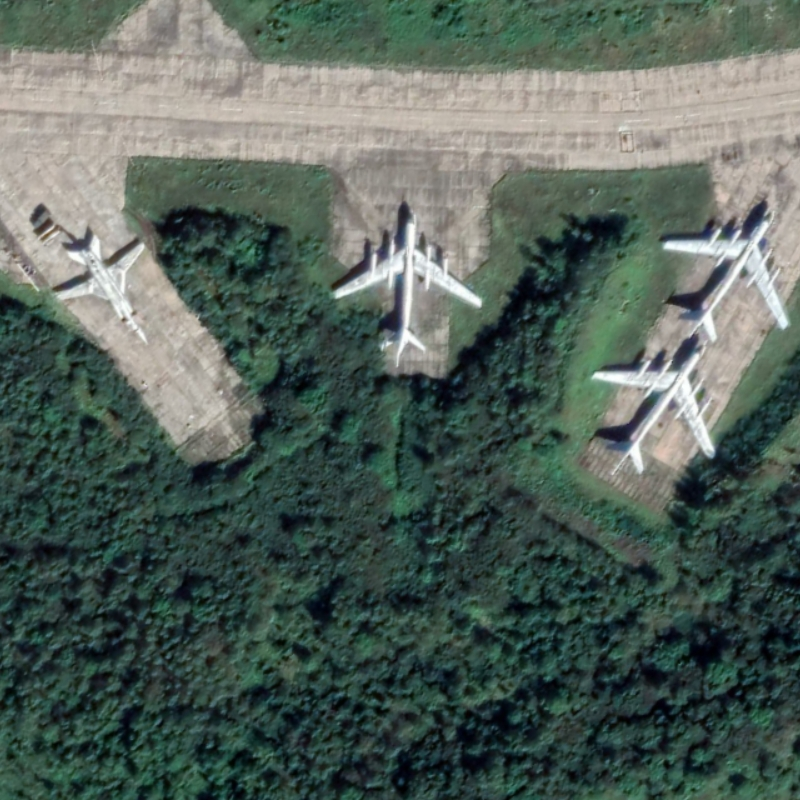A12: (50, 231, 152, 350)
A17: (325, 211, 486, 370), (657, 207, 794, 345), (587, 341, 721, 482)
